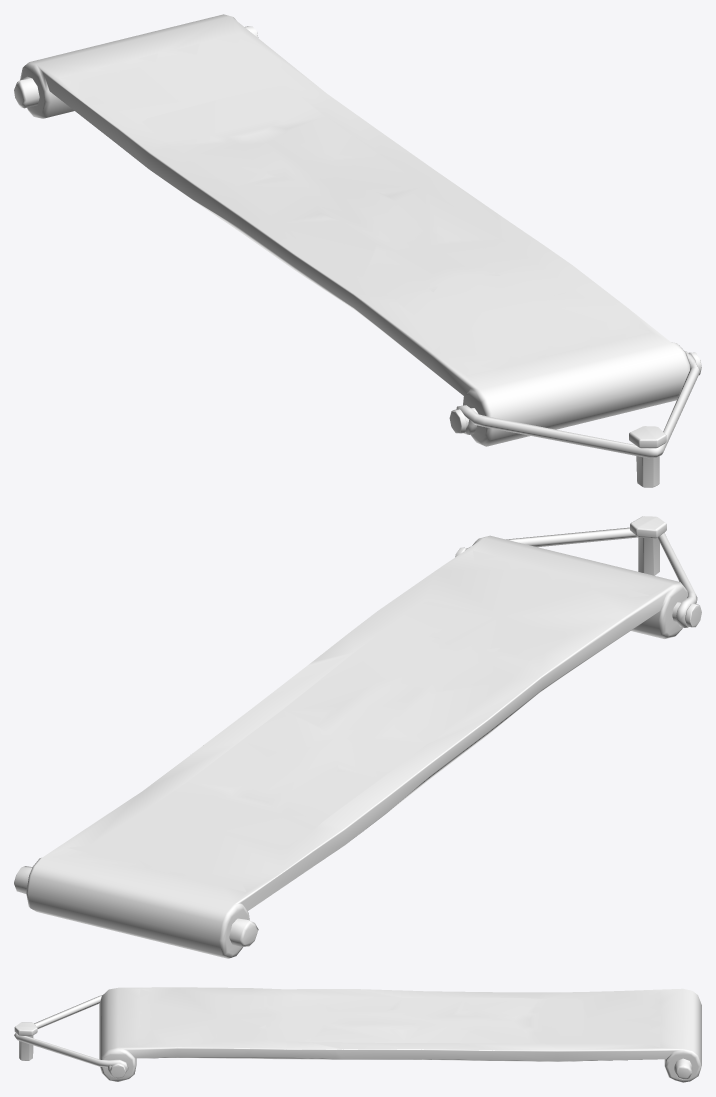
The model's file is Prop_MoonlightPoster.glb.
The picture shows the model from 3 angles, top to bottom: view 1: azimuth 30°, elevation 25°; view 2: azimuth 150°, elevation 25°; view 3: azimuth 270°, elevation 25°; orthographic projection. The views are drawn at different scales.
Visible parts, largest first — view 1: Prop_MoonlightPoster; view 2: Prop_MoonlightPoster; view 3: Prop_MoonlightPoster.
Boxes of the visible parts, x1,y1,x2,y2 form: Prop_MoonlightPoster: [14, 14, 701, 487]; Prop_MoonlightPoster: [14, 516, 701, 958]; Prop_MoonlightPoster: [14, 987, 701, 1082].
Bounding box in the file's own units: 0.3859 × 0.1 × 1.48.
1 material, 1 textured.
